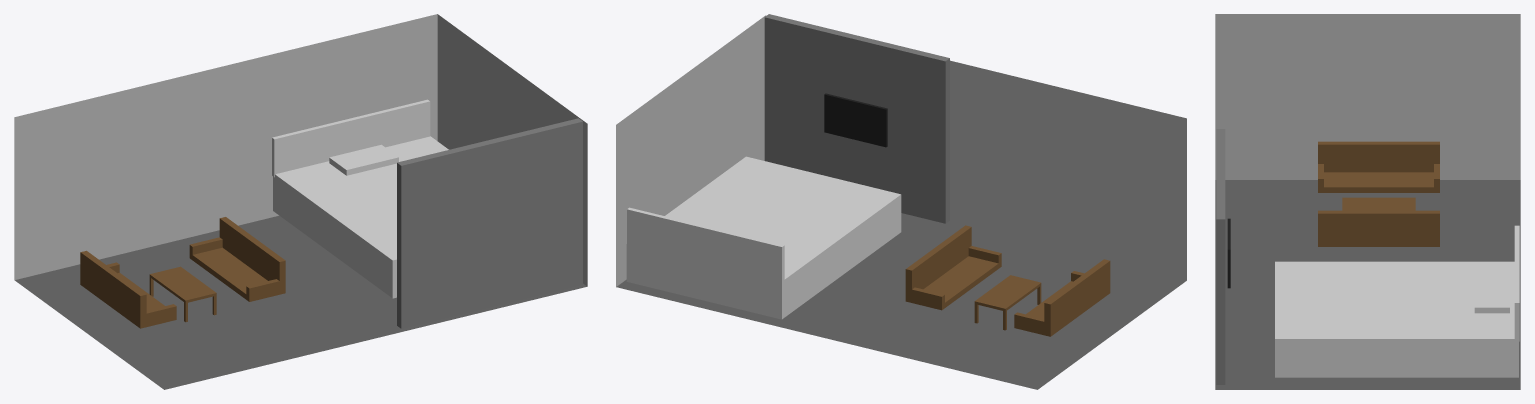
Rendered from room3.glb.
3 renders of one model, left to right at view 1: azimuth 30°, elevation 25°; view 2: azimuth 150°, elevation 25°; view 3: azimuth 270°, elevation 25°, orthographic. The views are drawn at different scales.
Visible parts, largest first — view 1: walls, partition_a, floor, Bed, Sofa, BedHead, Pillow; view 2: walls, floor, partition_a, Bed, Sofa, BedHead, led_tv; view 3: walls, floor, Bed, Sofa, partition_a, Pillow, BedHead, led_tv.
Part boxes in pixels (box(x1,y1,x2,y2)): walls: box(14, 14, 587, 286); partition_a: box(397, 118, 582, 328); floor: box(15, 215, 587, 389); Bed: box(273, 136, 448, 298); Sofa: box(80, 217, 285, 328); BedHead: box(272, 99, 430, 177); Pillow: box(329, 144, 398, 175); walls: box(616, 15, 1186, 286); floor: box(616, 213, 1186, 389); partition_a: box(764, 14, 949, 223); Bed: box(626, 156, 901, 319); Sofa: box(905, 225, 1110, 336); BedHead: box(627, 207, 784, 284); led_tv: box(824, 93, 887, 147); walls: box(1215, 14, 1520, 179); floor: box(1215, 180, 1520, 389); Bed: box(1275, 261, 1518, 377); Sofa: box(1318, 141, 1439, 246); partition_a: box(1216, 129, 1225, 384); Pillow: box(1474, 281, 1509, 313); BedHead: box(1514, 225, 1519, 341); led_tv: box(1227, 218, 1230, 288).
Size of the model in its own units: 8.15 by 3.05 by 5.
